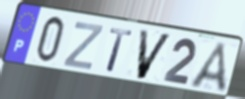0: (34, 15, 67, 68)
2: (161, 36, 199, 88)
A: (187, 41, 229, 95)
T: (105, 27, 135, 75)
V: (136, 28, 175, 82)
Z: (60, 20, 105, 72)
